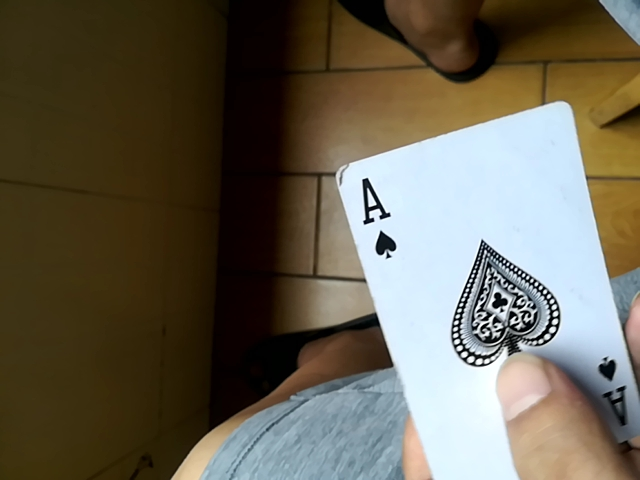ht a: (334, 100, 636, 476)
